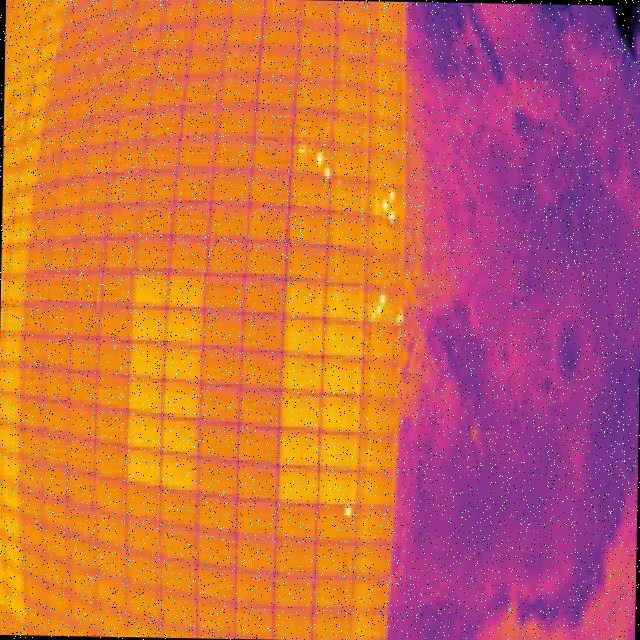Hotspot: (340, 496, 354, 524), (384, 182, 396, 205), (294, 141, 310, 155), (321, 162, 332, 182), (315, 147, 325, 168), (394, 306, 404, 326), (386, 209, 398, 225), (377, 292, 388, 306), (374, 301, 384, 316), (379, 194, 389, 208)
